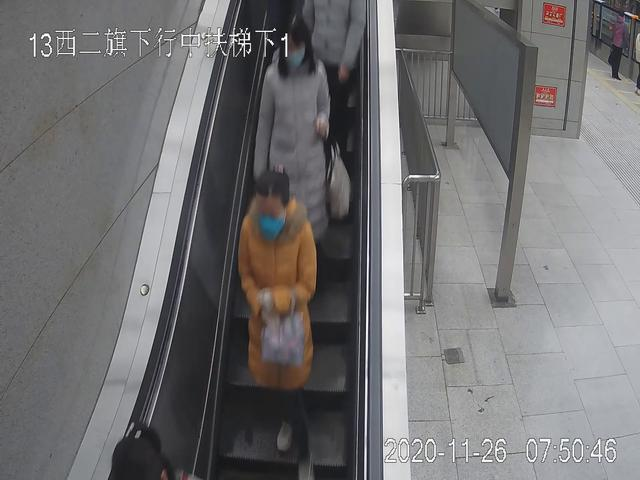person: (240, 168, 317, 480), (255, 16, 331, 278), (606, 8, 628, 82)
